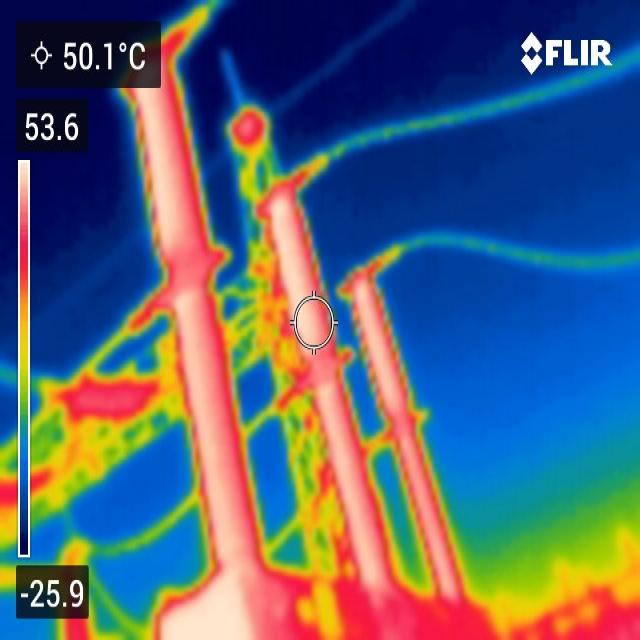Zona_Critica: (349, 589, 478, 638), (73, 385, 143, 412)
Zona_Extrema: (402, 438, 456, 590), (182, 284, 228, 462), (145, 94, 188, 246), (357, 287, 401, 409), (207, 477, 255, 570), (325, 403, 363, 497), (270, 205, 308, 297), (166, 607, 250, 638), (352, 496, 386, 568), (315, 370, 347, 435), (203, 569, 245, 604)
